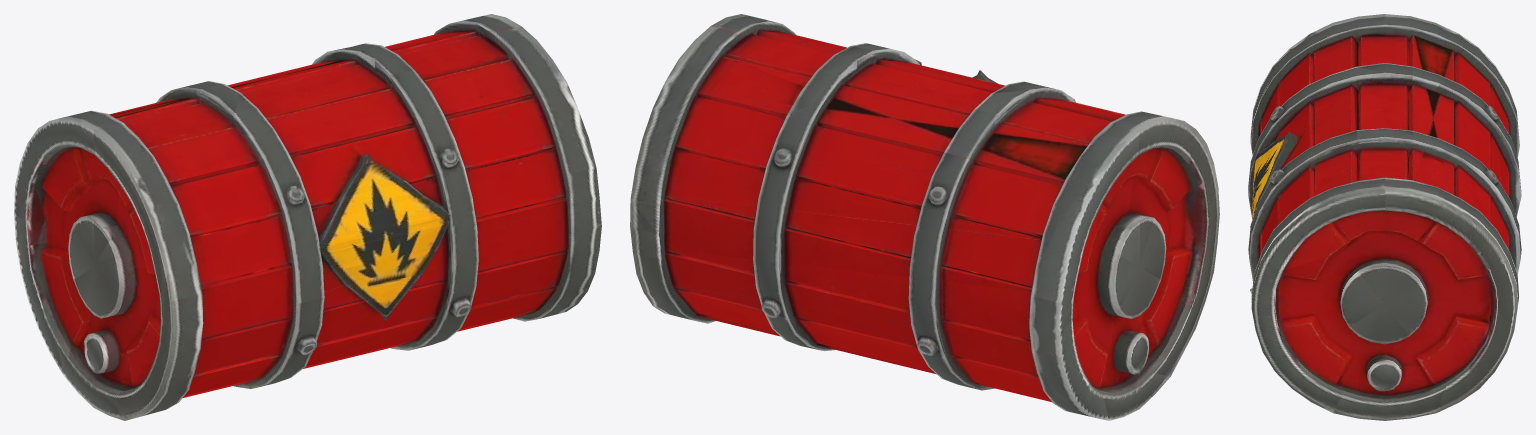
The model's file is explode_barrel_2.glb.
3 views of the same model, side by side, from view 1: azimuth 30°, elevation 25°; view 2: azimuth 150°, elevation 25°; view 3: azimuth 270°, elevation 25° (orthographic). The views are drawn at different scales.
Parts seen in each view (by area): view 1: mesh_node; view 2: mesh_node; view 3: mesh_node.
Part boxes in pixels (x1,y1,x2,y2): mesh_node: [14, 14, 601, 420]; mesh_node: [630, 14, 1219, 420]; mesh_node: [1248, 14, 1521, 420].
Size of the model in its own units: 1 by 0.625 by 0.6582.
Materials: 1 (1 with a texture image).
